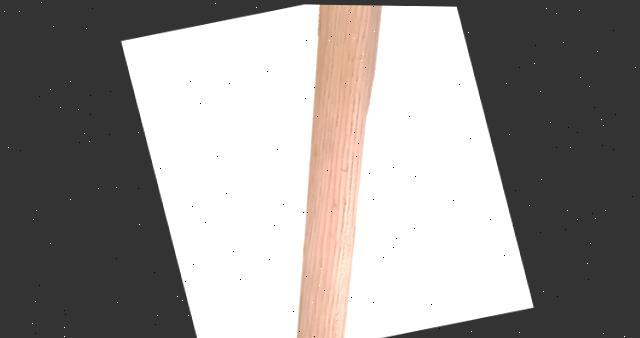hammer: (119, 1, 517, 338)
